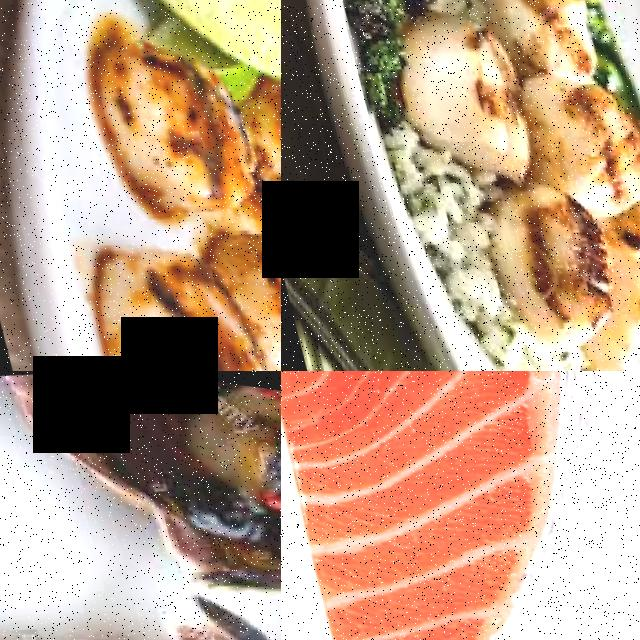lemon: (205, 0, 281, 92)
salmon: (281, 371, 640, 640)
sea scallops: (92, 44, 265, 229), (72, 220, 267, 371), (478, 171, 623, 347), (384, 0, 529, 175), (513, 49, 640, 205), (218, 205, 281, 371), (479, 0, 594, 75)
